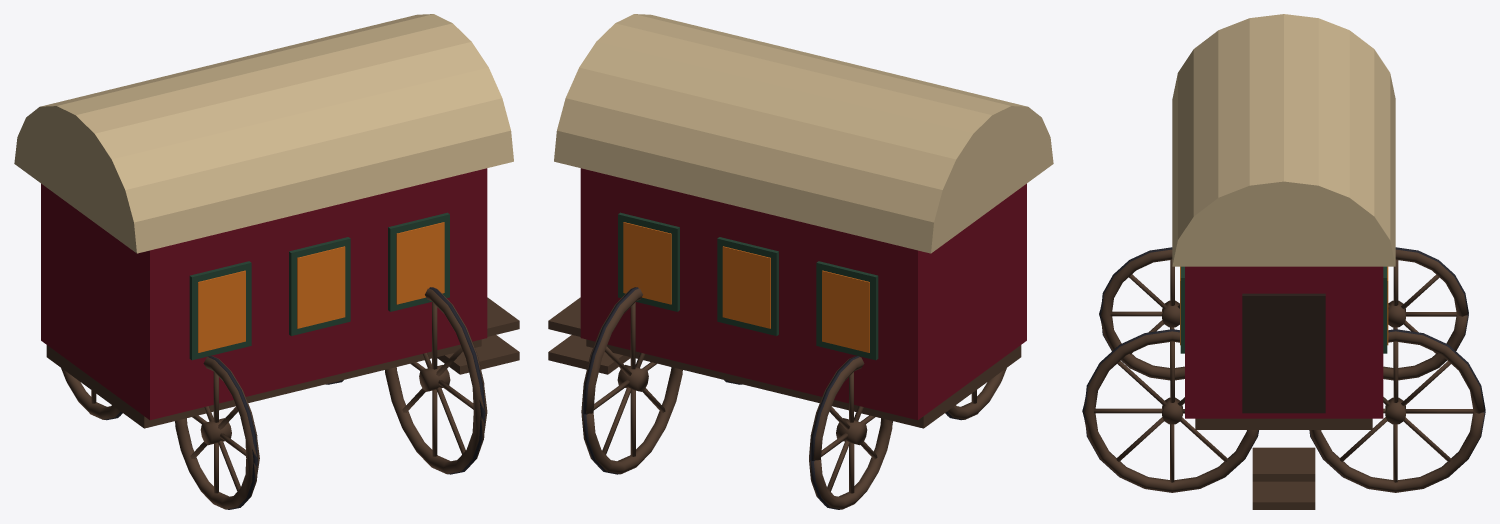
Rendered from vardo.glb.
The picture shows the model from 3 angles, left to right: view 1: azimuth 30°, elevation 25°; view 2: azimuth 150°, elevation 25°; view 3: azimuth 270°, elevation 25°; orthographic projection. The views are drawn at different scales.
Parts seen in each view (by area): view 1: vardo; view 2: vardo; view 3: vardo.
Part boxes in pixels (x1,y1,x2,y2): vardo: [14, 14, 519, 509]; vardo: [548, 14, 1053, 509]; vardo: [1082, 14, 1485, 509].
Size of the model in its own units: 2.15 by 1.83 by 1.93.
